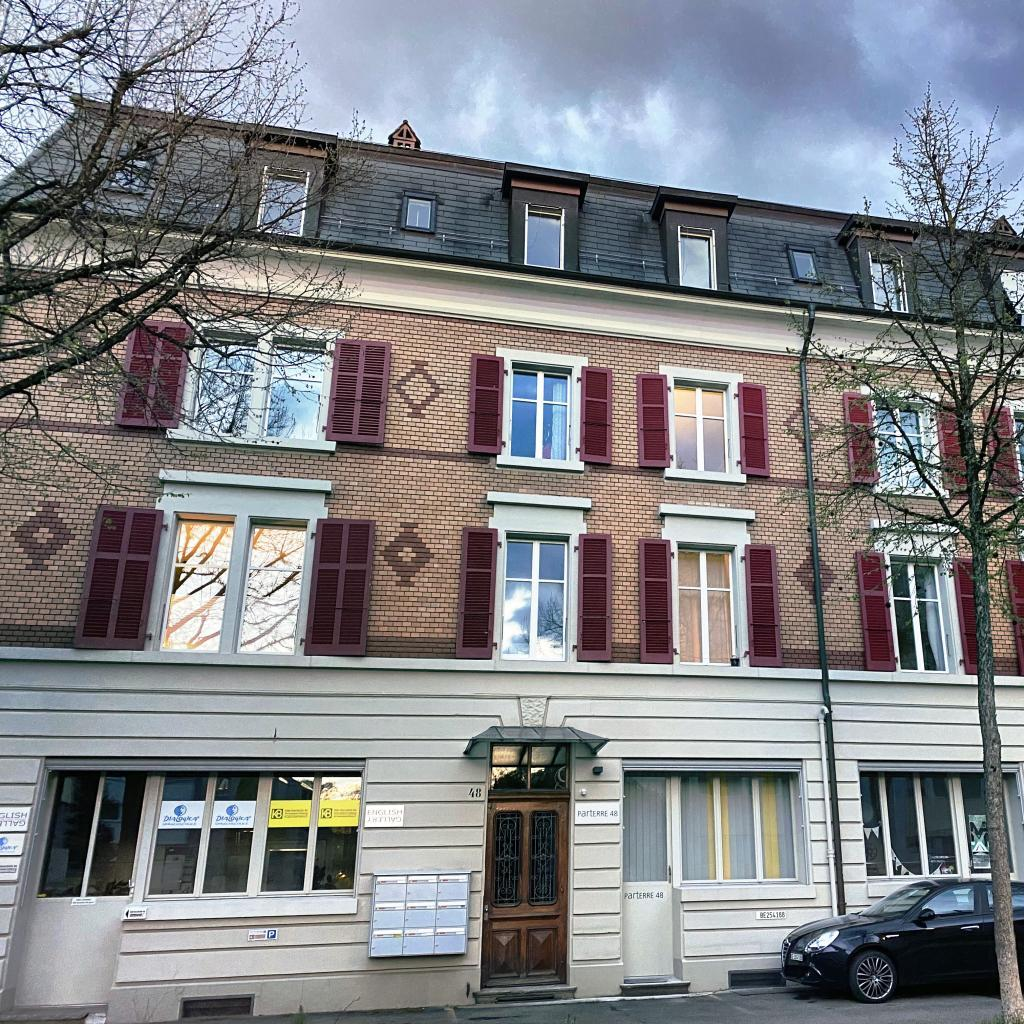car: (780, 878, 1024, 1004)
facade: (0, 93, 1024, 683)
street: (145, 976, 999, 1024)
vegetation: (774, 74, 1024, 1024)
window: (145, 768, 363, 901), (158, 518, 306, 655), (859, 769, 1018, 882), (675, 771, 805, 887), (192, 334, 325, 440), (36, 774, 146, 898), (502, 538, 568, 661), (679, 545, 738, 666), (890, 560, 951, 672), (509, 363, 572, 462), (621, 772, 668, 881), (675, 383, 730, 472), (877, 404, 927, 487), (489, 743, 571, 790), (260, 175, 305, 235), (527, 204, 564, 269), (681, 232, 713, 289), (995, 268, 1024, 325), (873, 261, 902, 312), (111, 157, 148, 189), (405, 197, 432, 229), (793, 252, 819, 279), (1014, 416, 1024, 481)
